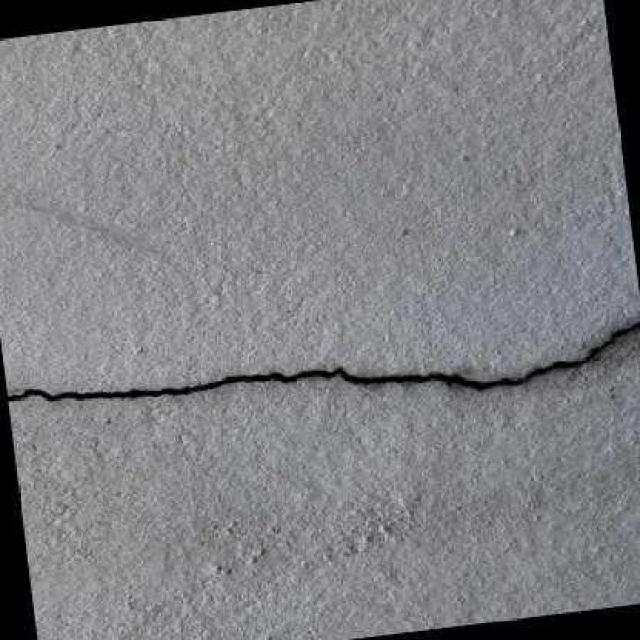D00: (7, 320, 640, 399)
